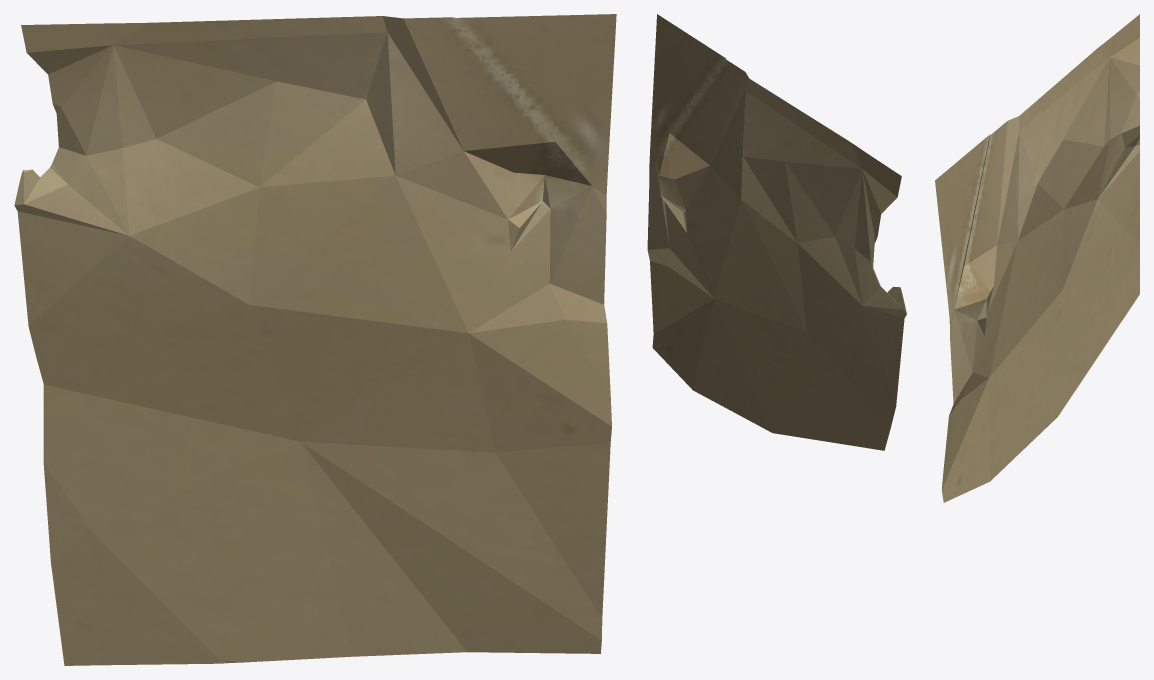
3 renders of one model, left to right at view 1: azimuth 30°, elevation 25°; view 2: azimuth 150°, elevation 25°; view 3: azimuth 270°, elevation 25°, orthographic. The views are drawn at different scales.
Bounding box in the file's own units: 0.625 × 0.8374 × 0.3204.
2 materials, 2 textured.
